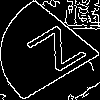Z: (25, 25, 99, 81)
